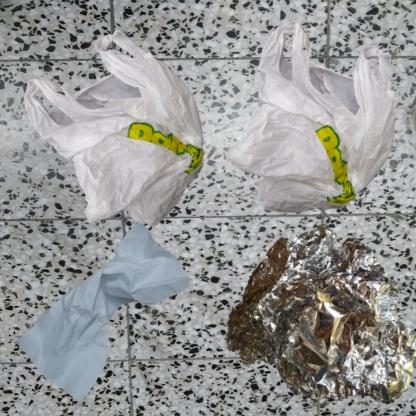aluminio: (213, 213, 416, 416)
bolsa: (10, 10, 279, 299), (213, 10, 416, 265)
papel: (10, 213, 197, 416)
